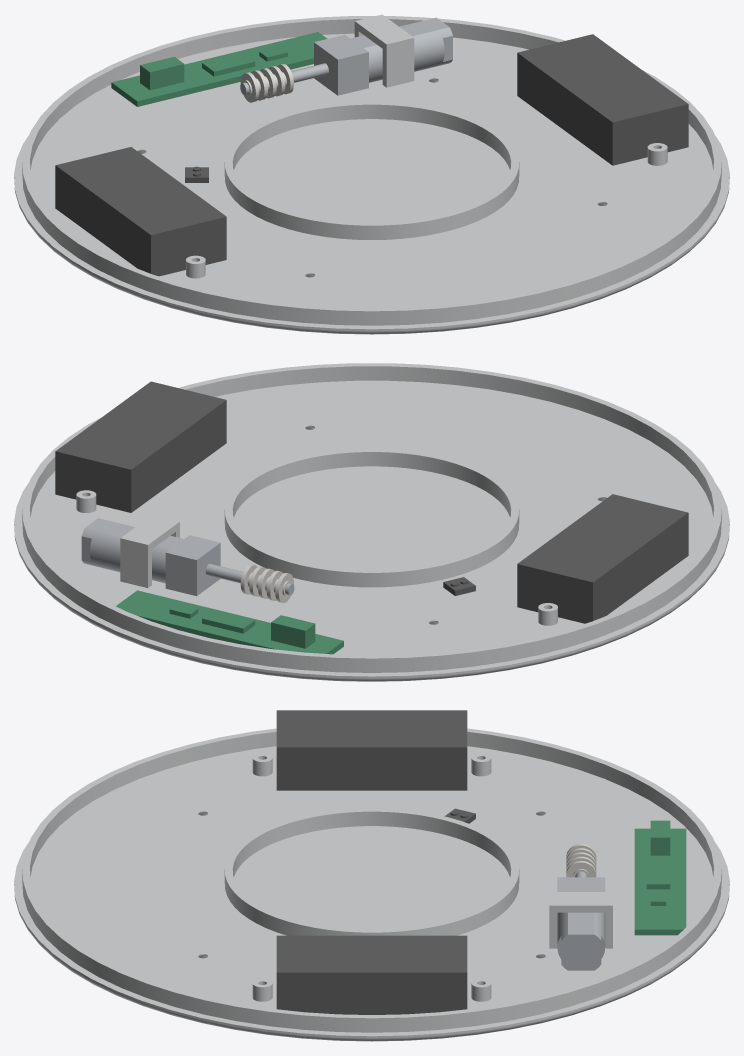
File: step_03.glb
3 renders of one model, top to bottom at view 1: azimuth 30°, elevation 25°; view 2: azimuth 150°, elevation 25°; view 3: azimuth 270°, elevation 25°, orthographic.
Visible parts, largest first — view 1: part__bottom cover, part__battery holder, right, part__battery holder, left, part__main circuit board, part__gear motor, part__motor clamp, part__worm; view 2: part__bottom cover, part__battery holder, right, part__battery holder, left, part__main circuit board, part__gear motor, part__motor clamp, part__worm; view 3: part__bottom cover, part__battery holder, left, part__battery holder, right, part__main circuit board, part__gear motor, part__motor clamp, part__worm.
Part boxes in pixels (<box>): part__bottom cover: <box>14,16,729,334</box>; part__battery holder, right: <box>517,34,688,165</box>; part__battery holder, left: <box>55,147,226,276</box>; part__main circuit board: <box>111,32,327,106</box>; part__gear motor: <box>240,17,452,95</box>; part__motor clamp: <box>354,14,414,87</box>; part__worm: <box>240,64,293,102</box>; part__bottom cover: <box>14,363,729,681</box>; part__battery holder, right: <box>55,381,226,512</box>; part__battery holder, left: <box>517,494,688,623</box>; part__main circuit board: <box>116,590,343,654</box>; part__gear motor: <box>81,518,294,596</box>; part__motor clamp: <box>120,515,179,587</box>; part__worm: <box>240,564,293,603</box>; part__bottom cover: <box>14,728,729,1041</box>; part__battery holder, left: <box>276,710,467,790</box>; part__battery holder, right: <box>276,935,467,1014</box>; part__main circuit board: <box>634,820,686,935</box>; part__gear motor: <box>557,871,605,970</box>; part__motor clamp: <box>549,892,612,948</box>; part__worm: <box>566,844,596,877</box>.
Bounding box in the file's own units: 180 × 17 × 180.
